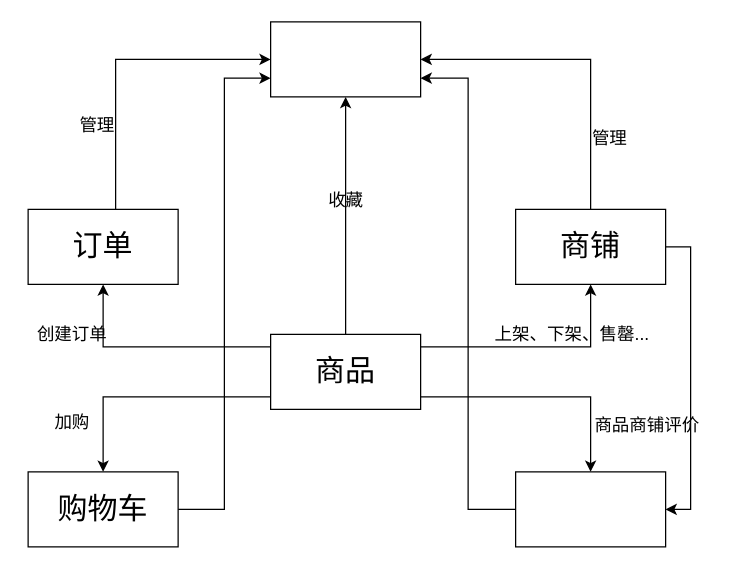
Some shapes in this 736 by 569 pixel diagram are drawn without their labels. Each missing label, with the box of its shape:
用户: (269, 21, 421, 97)
评价: (514, 471, 666, 547)
